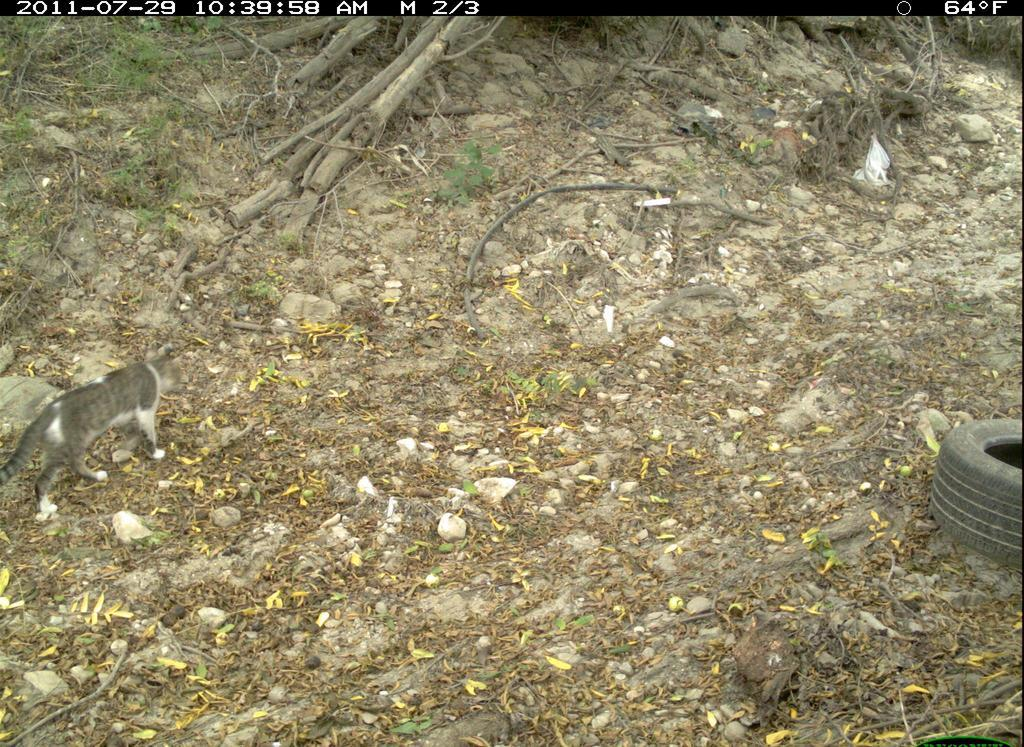cat: (1, 338, 208, 513)
